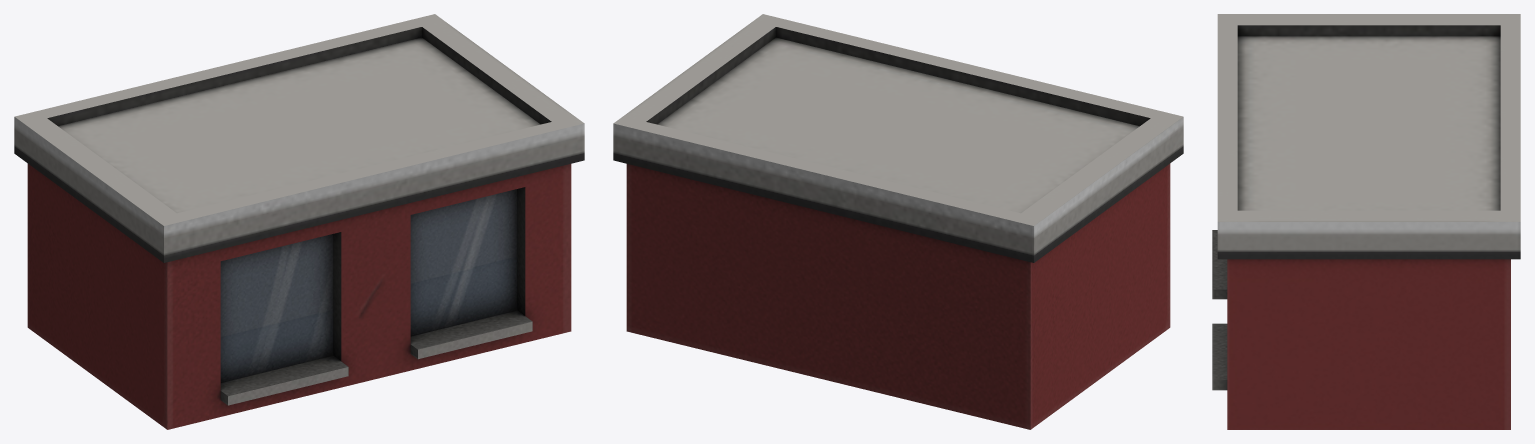
Rendered from House_2Windows.FBX.
3 views of the same model, side by side, from view 1: azimuth 30°, elevation 25°; view 2: azimuth 150°, elevation 25°; view 3: azimuth 270°, elevation 25° (orthographic).
Visible parts, largest first — view 1: Windows; view 2: Windows; view 3: Windows.
Boxes of the visible parts, <box> form: Windows: <box>14,14,584,429</box>; Windows: <box>613,14,1183,429</box>; Windows: <box>1212,14,1520,429</box>.
Size of the model in its own units: 521 by 248 by 326.
